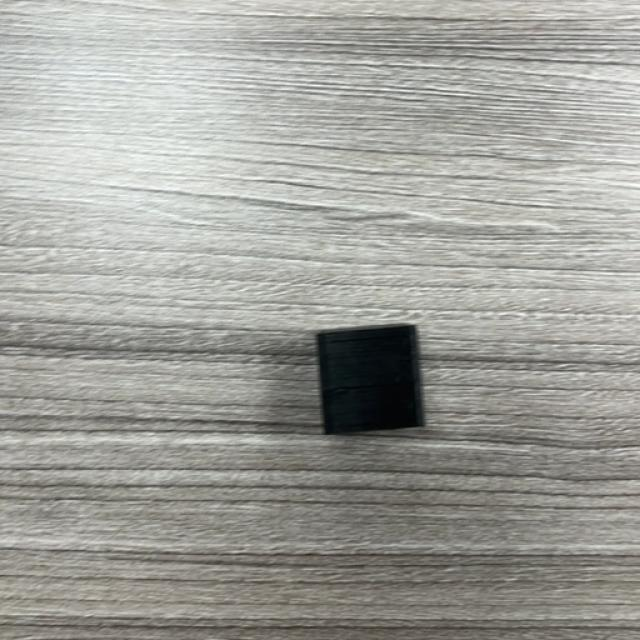Negro: (316, 325, 425, 436)
